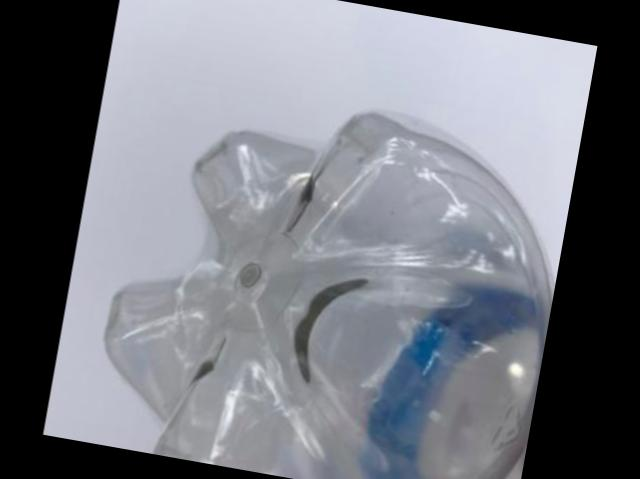plastic: (104, 110, 552, 479)
